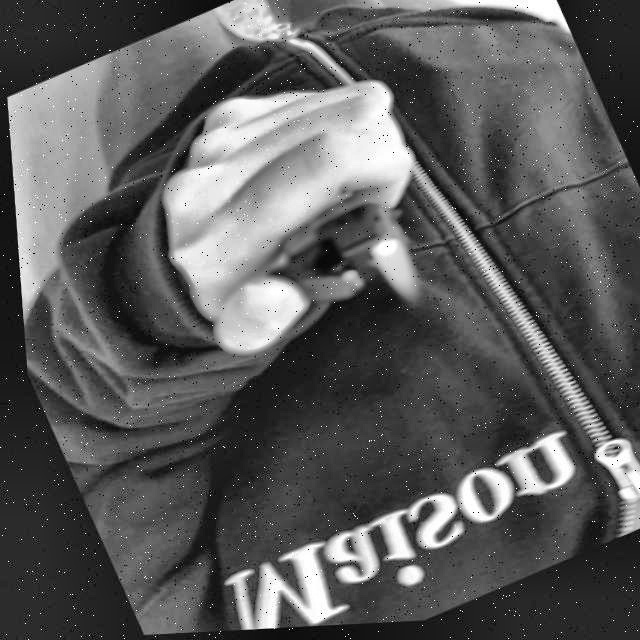Fire: (362, 234, 424, 317)
